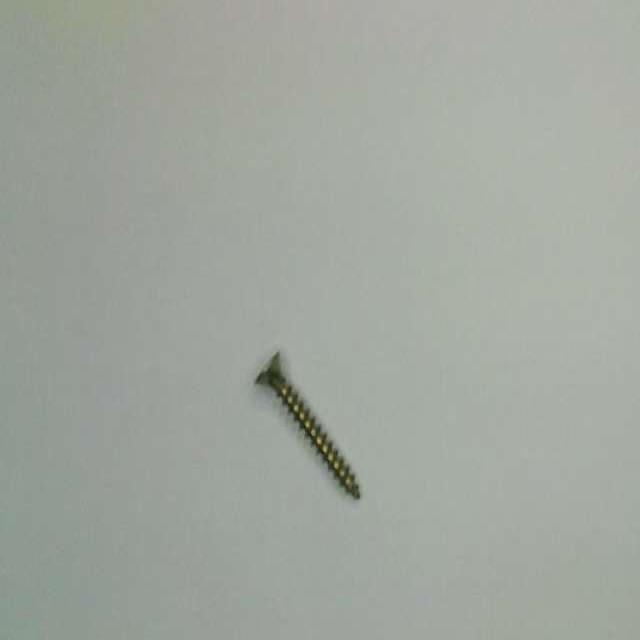Parafuso: (255, 352, 359, 497)
